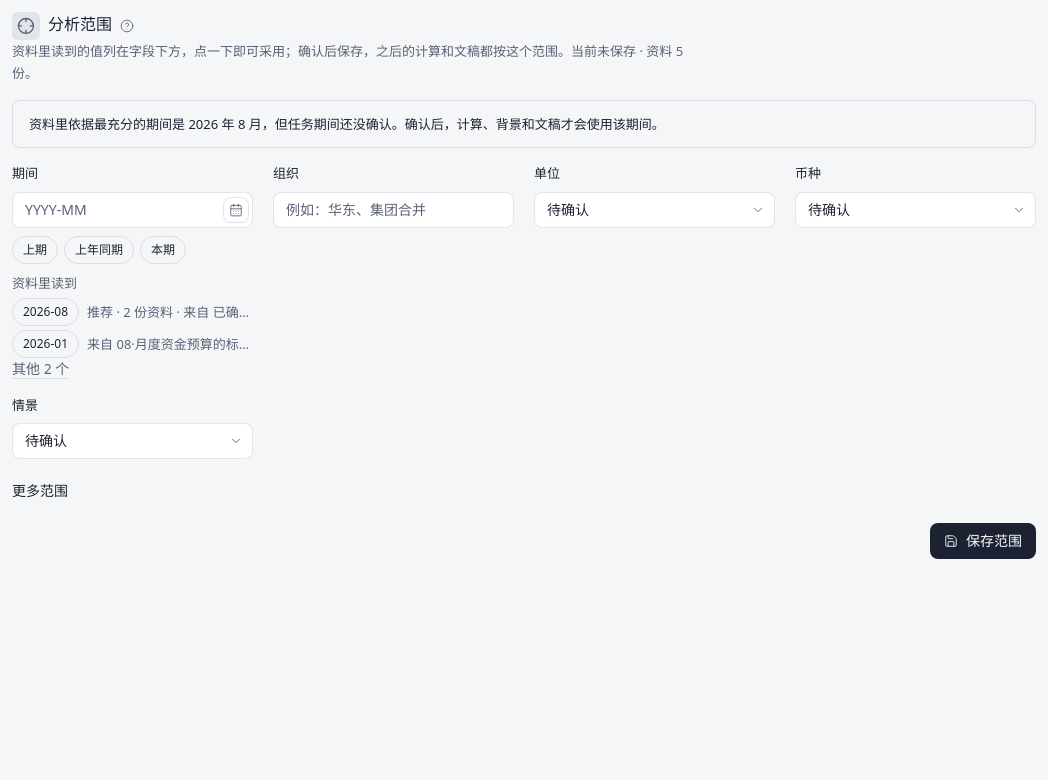
it: lists the strongest candidates one per row, marks the recommended one and folds the rest under 其他 N 个
The image size is (1048, 780).
Expected: the message shows "资料里依据最充分的期间是 2026 年 8 月，但任务期间还没确认", [12, 100, 1036, 148]
Expected: the text "推荐 · 2 份资料 · 来自 已确认的表结构 等 2 处" is shown, [87, 301, 253, 323]
What coordinates should you click on to do the following:
click the button "其他 2 个"
I would click on:
 (41, 369)
Its box is [12, 362, 69, 376].
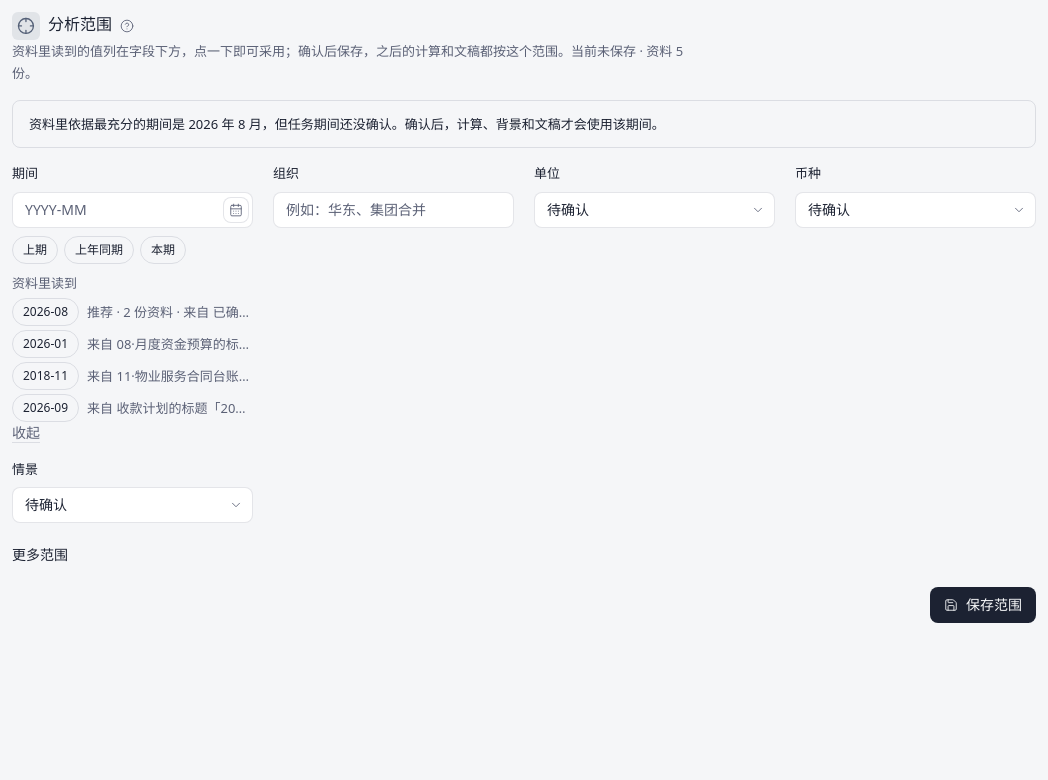
Expected: the button "收起" is expanded, [12, 426, 40, 440]
